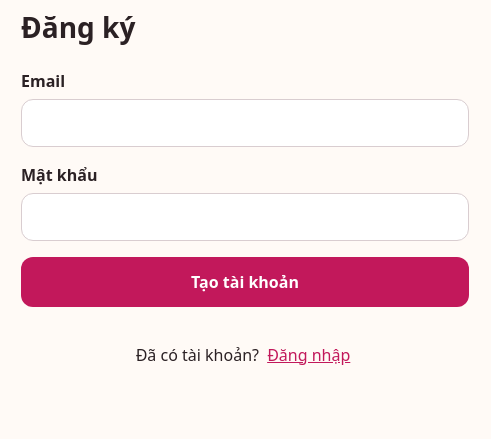
it: SignUpPage shows field messages from server 422 by field and code
Step 1. Type "an@" into the field labelled "Email" → (245, 123), box x1=21 y1=99 x2=469 y2=147
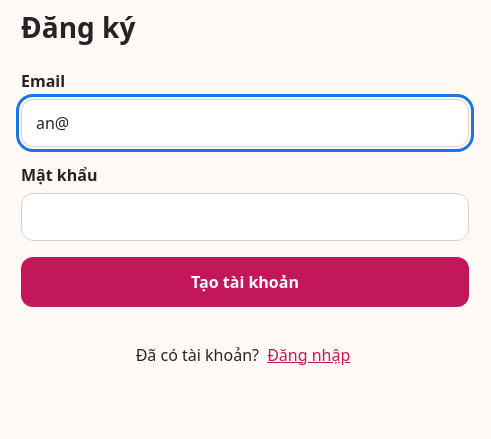
Step 2. Type "mat-khau-dai" into the password field labelled "Mật khẩu" → (245, 217), box x1=21 y1=193 x2=469 y2=241
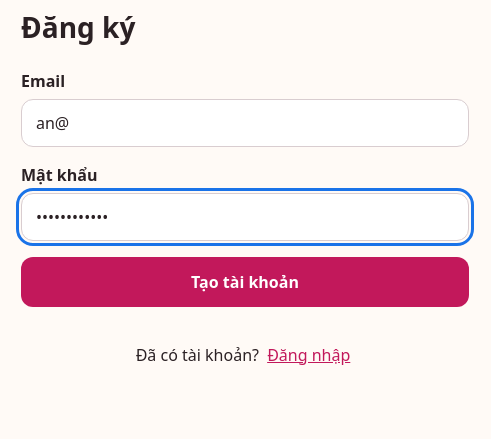
Step 3. Click the button "Tạo tài khoản" → (245, 282), box x1=21 y1=257 x2=469 y2=307
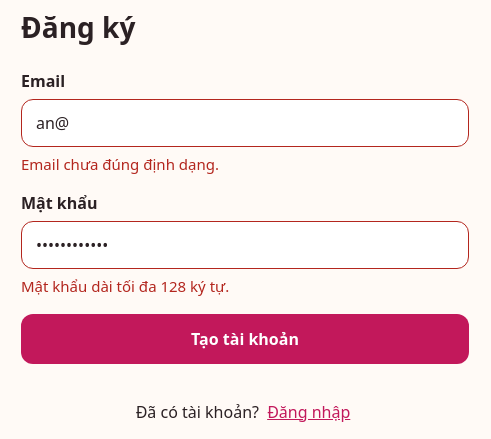
Expected: the text "Mật khẩu dài tối đa 128 ký tự." is shown, x1=21 y1=276 x2=229 y2=296
